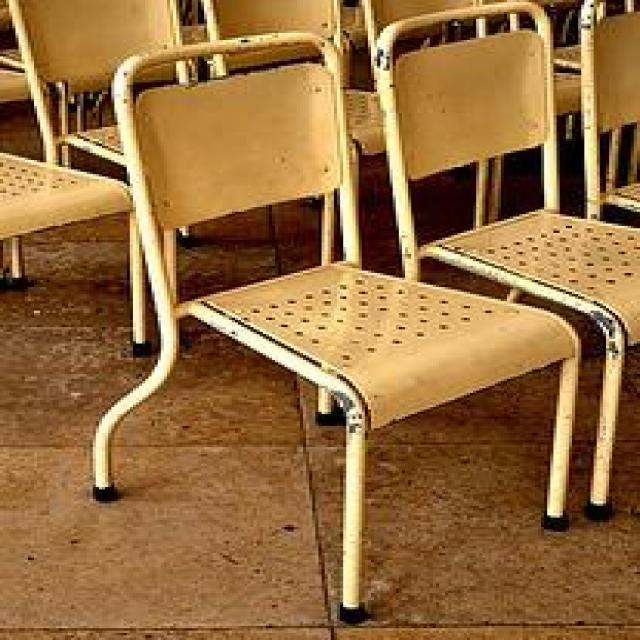chair: (87, 28, 581, 621), (371, 2, 640, 520)
